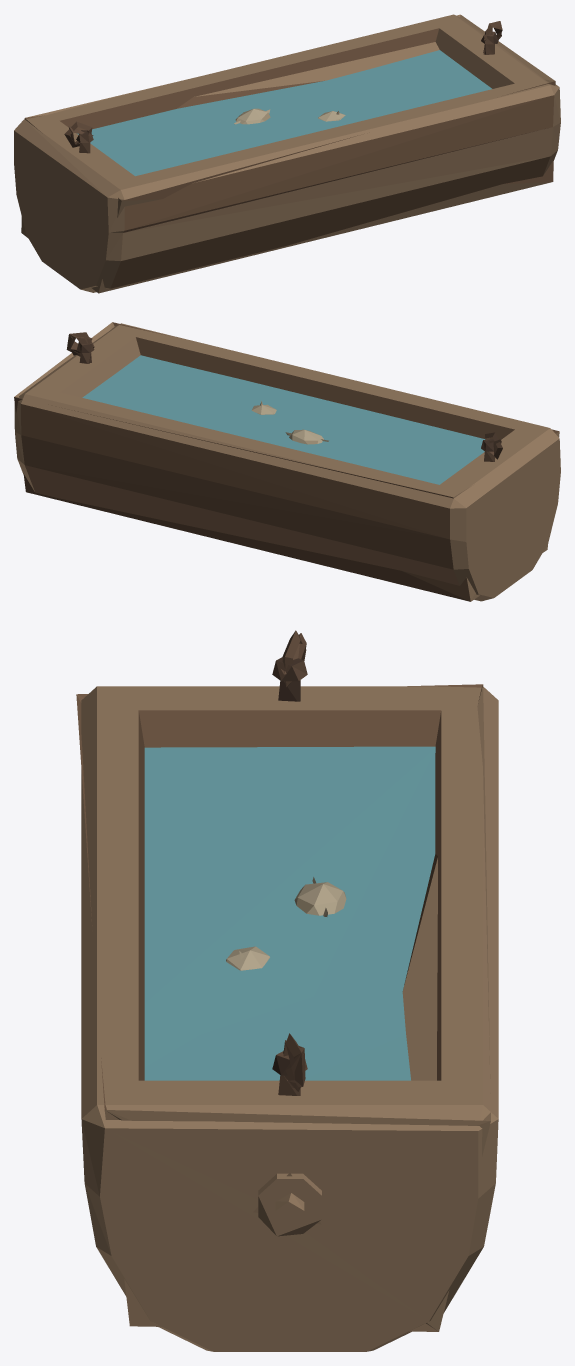
The model's file is pf_retting.glb.
3 renders of one model, top to bottom at view 1: azimuth 30°, elevation 25°; view 2: azimuth 150°, elevation 25°; view 3: azimuth 270°, elevation 25°, orthographic. The views are drawn at different scales.
Visible parts, largest first — view 1: body, body__far; view 2: body, body__far; view 3: body, body__far.
Boxes of the visible parts, left/top/right/bottom form: body: left=14, top=14, right=560, bottom=292; body__far: left=21, top=14, right=555, bottom=293; body: left=14, top=323, right=560, bottom=601; body__far: left=14, top=322, right=559, bottom=601; body: left=81, top=630, right=498, bottom=1351; body__far: left=76, top=633, right=490, bottom=1331.
Size of the model in its own units: 1.22 by 0.3823 by 0.4763.
